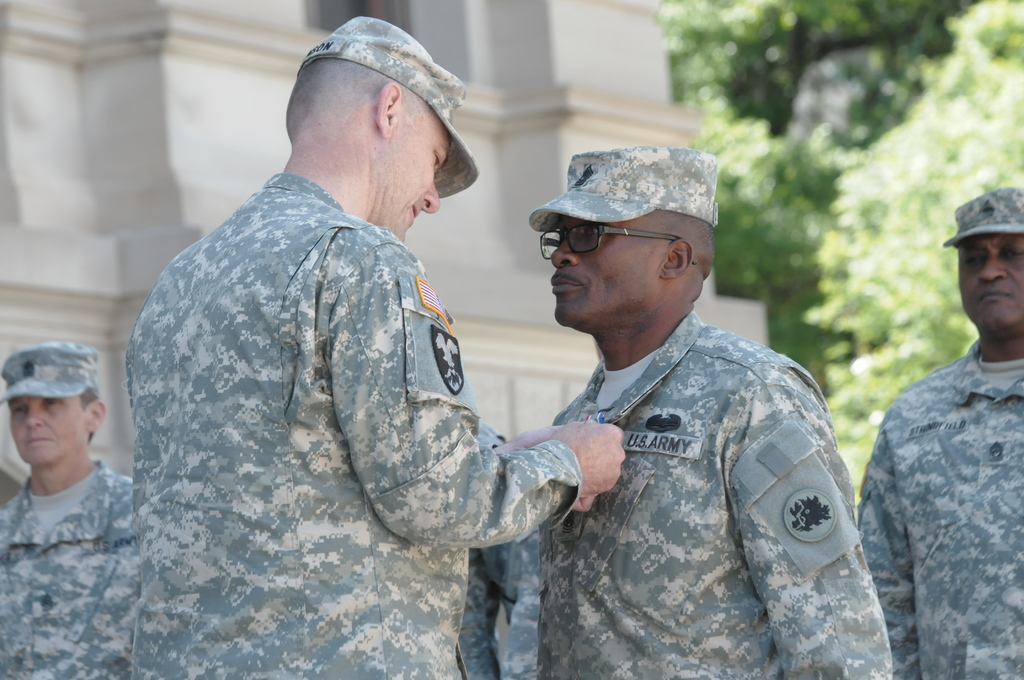Human-face: (549, 216, 659, 324), (380, 102, 451, 240), (960, 233, 1023, 333), (8, 391, 86, 465)
